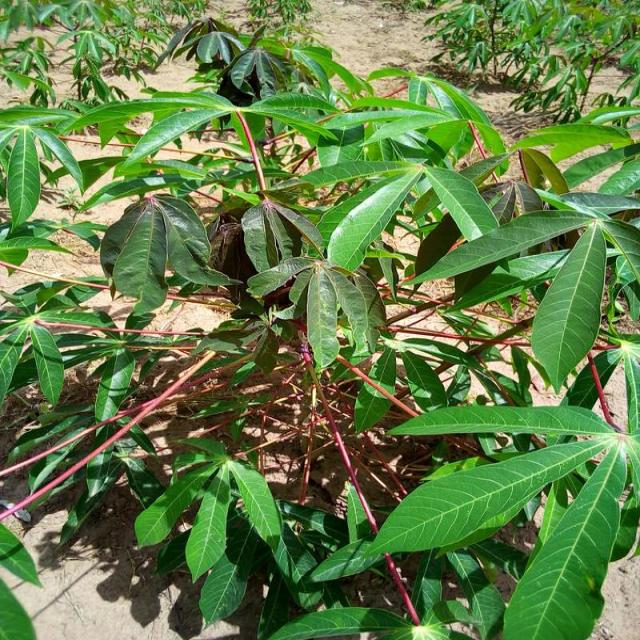cassava leaf: (370, 435, 614, 558), (502, 439, 628, 638), (531, 218, 608, 394)
